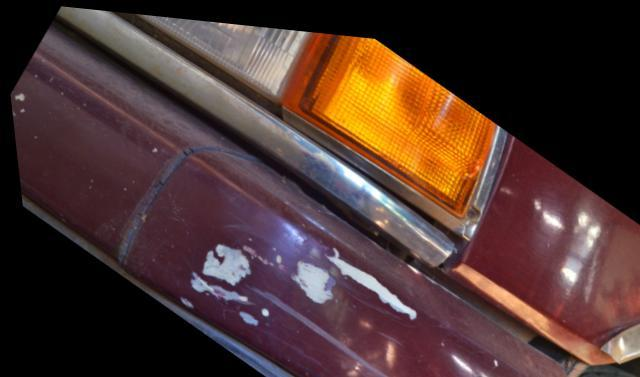scratch: (159, 226, 463, 377)
